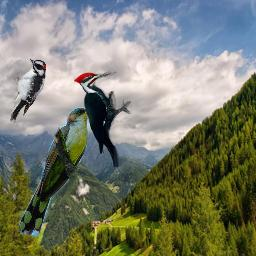Cuckoo: (19, 107, 98, 237)
Woodpecker: (74, 70, 131, 167), (9, 58, 46, 123)
